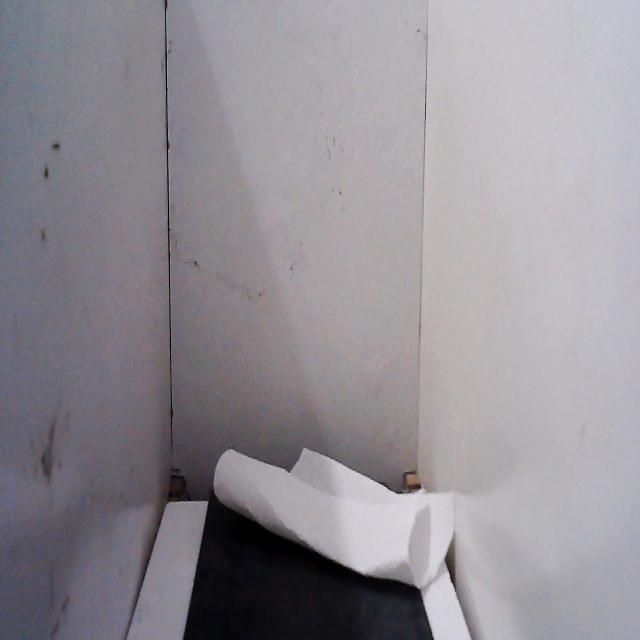papel: (210, 436, 461, 594)
